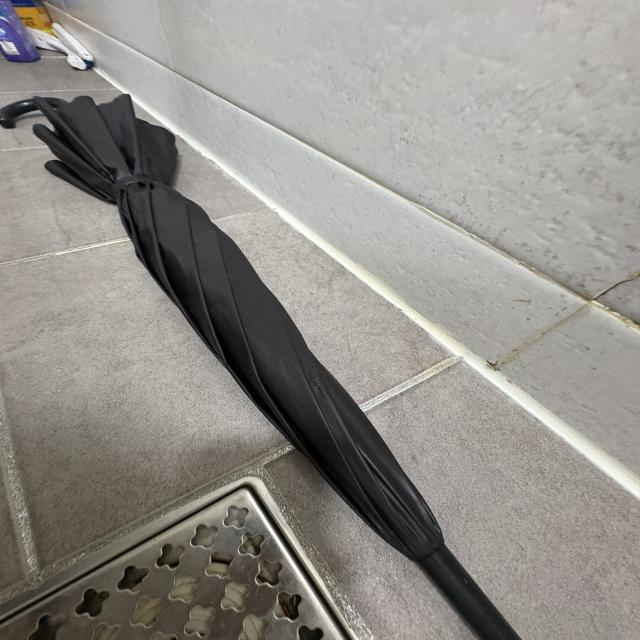umbrella: (0, 92, 519, 640)
